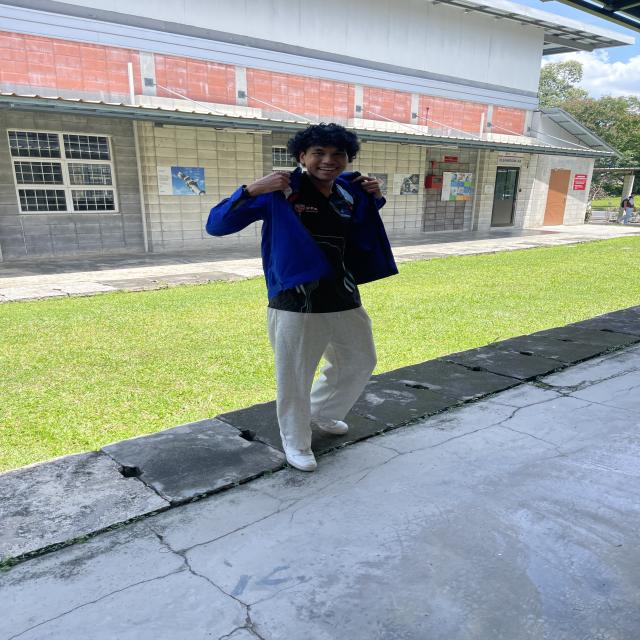person_with_labcoat: (206, 124, 397, 471)
